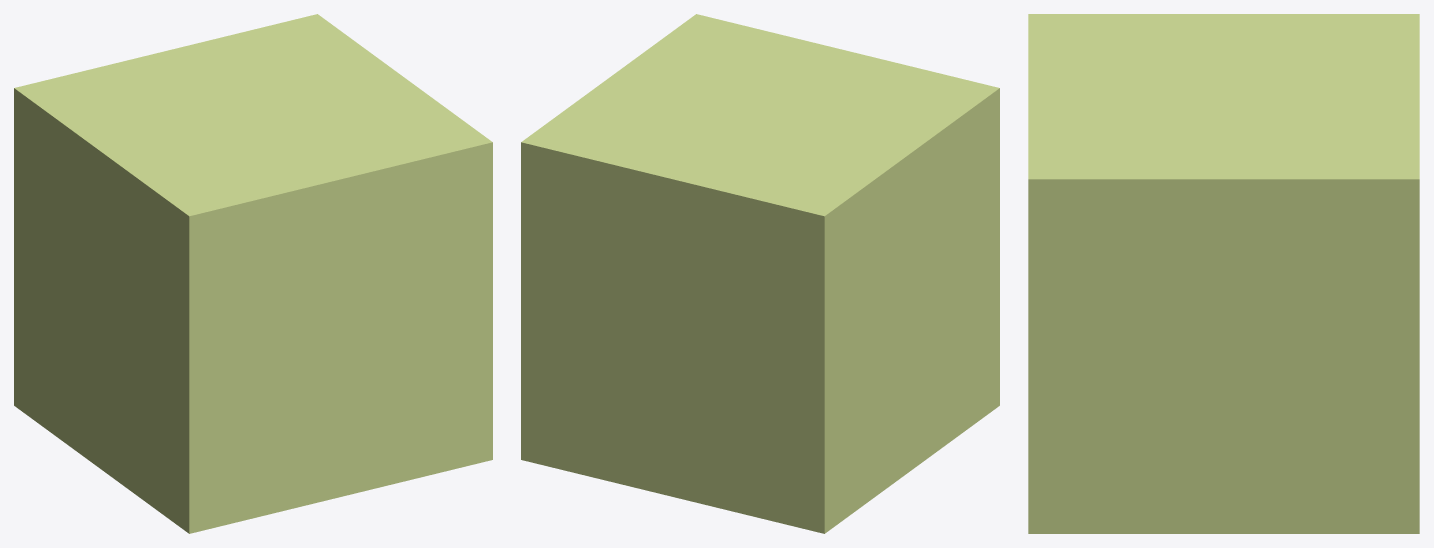
Rendered from shrine_bowl_A_unbk.DAE.
3 views of the same model, side by side, from view 1: azimuth 30°, elevation 25°; view 2: azimuth 150°, elevation 25°; view 3: azimuth 270°, elevation 25° (orthographic). The views are drawn at different scales.
Visible parts, largest first — view 1: bounds; view 2: bounds; view 3: bounds.
Boxes of the visible parts, x1,y1,x2,y2 form: bounds: [14, 14, 492, 533]; bounds: [521, 14, 999, 533]; bounds: [1028, 14, 1419, 533].
Bounding box in the file's own units: 2 × 2 × 2.
